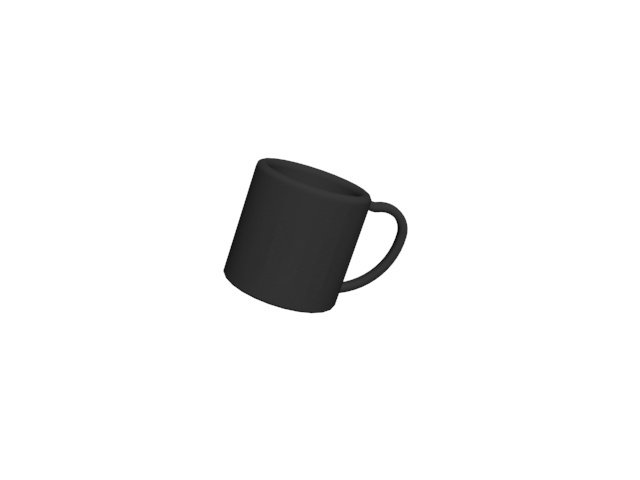mug: (217, 153, 408, 320)
